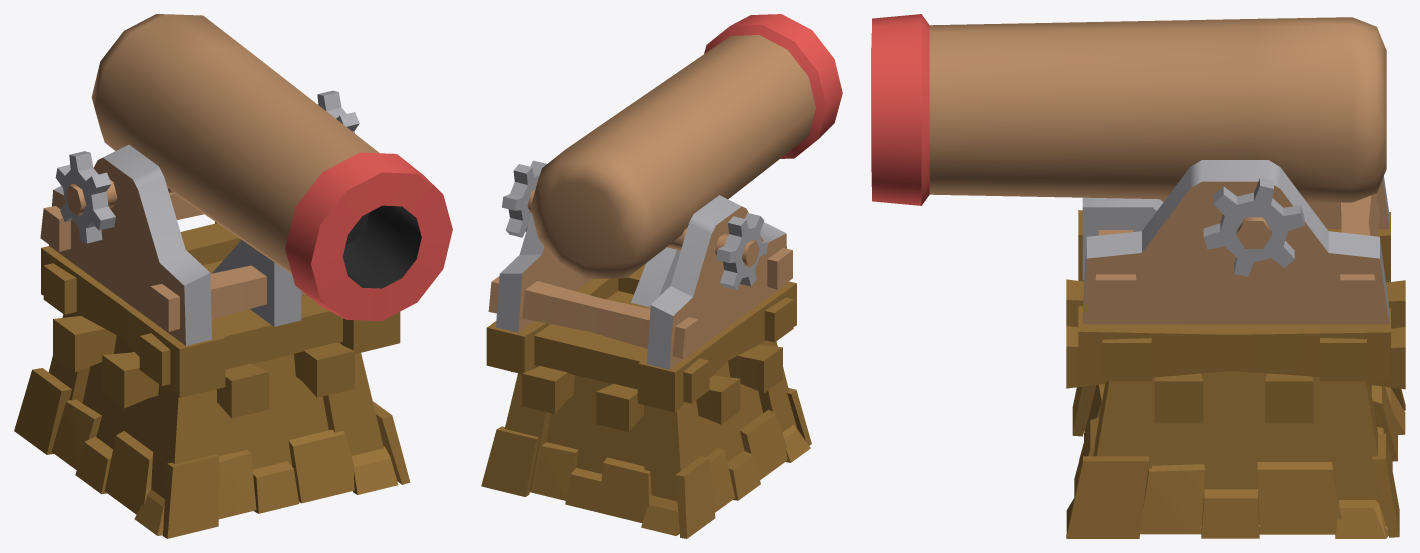
The model's file is Cannon_v2.fbx.
The picture shows the model from 3 angles, left to right: view 1: azimuth 30°, elevation 25°; view 2: azimuth 150°, elevation 25°; view 3: azimuth 270°, elevation 25°; orthographic projection. The views are drawn at different scales.
Visible parts, largest first — view 1: Tower, Cannon_Front, Cannon_Base, Cannon_Back, Cannon_Gear; view 2: Tower, Cannon_Front, Cannon_Base, Cannon_Back, Cannon_Gear; view 3: Tower, Cannon_Front, Cannon_Base, Cannon_Back, Cannon_Gear.
Boxes of the visible parts, x1,y1,x2,y2 form: Tower: (14,222,410,538); Cannon_Front: (139,47,452,321); Cannon_Base: (40,144,306,345); Cannon_Back: (91,14,244,154); Cannon_Gear: (55,90,359,243); Tower: (481,263,811,538); Cannon_Front: (603,14,842,227); Cannon_Base: (488,195,792,369); Cannon_Back: (530,122,694,279); Cannon_Gear: (502,160,767,289); Tower: (1066,210,1405,538); Cannon_Front: (871,14,1255,205); Cannon_Base: (1082,160,1389,324); Cannon_Back: (1255,17,1386,202); Cannon_Gear: (1203,177,1304,276).
Bounding box in the file's own units: 169 × 239 × 255.
